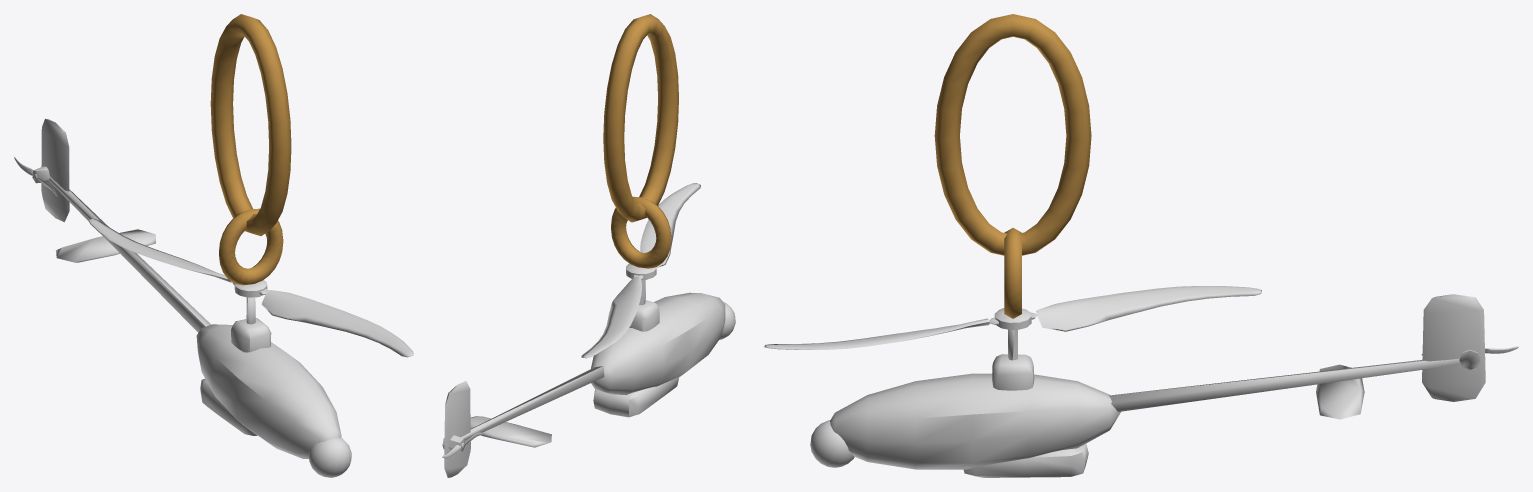
The model's file is pocket_scout_lod1.obj.
The picture shows the model from 3 angles, left to right: view 1: azimuth 30°, elevation 25°; view 2: azimuth 150°, elevation 25°; view 3: azimuth 270°, elevation 25°; orthographic projection. The views are drawn at different scales.
Visible parts, largest first — view 1: pocket_scout_lod1; view 2: pocket_scout_lod1; view 3: pocket_scout_lod1.
Part boxes in pixels (bbox=[...]): pocket_scout_lod1: bbox=[14, 14, 413, 477]; pocket_scout_lod1: bbox=[442, 14, 735, 477]; pocket_scout_lod1: bbox=[764, 14, 1518, 477].
Bounding box in the file's own units: 0.2654 × 0.8754 × 1.32.
